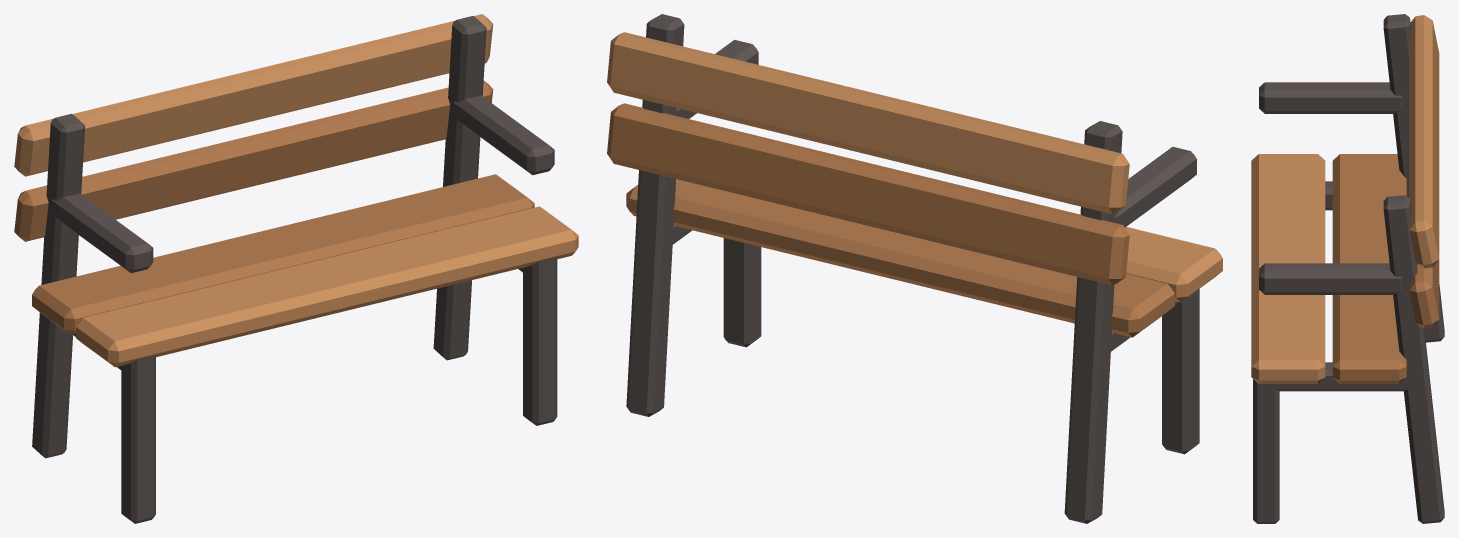
Rendered from banco.glb.
3 renders of one model, left to right at view 1: azimuth 30°, elevation 25°; view 2: azimuth 150°, elevation 25°; view 3: azimuth 270°, elevation 25°, orthographic. The views are drawn at different scales.
Parts seen in each view (by area): view 1: banco; view 2: banco; view 3: banco.
Boxes of the visible parts, bbox=[...] form: banco: bbox=[14, 14, 578, 523]; banco: bbox=[607, 14, 1222, 523]; banco: bbox=[1251, 14, 1444, 523].
Bounding box in the file's own units: 0.34 × 0.24 × 0.1306.
